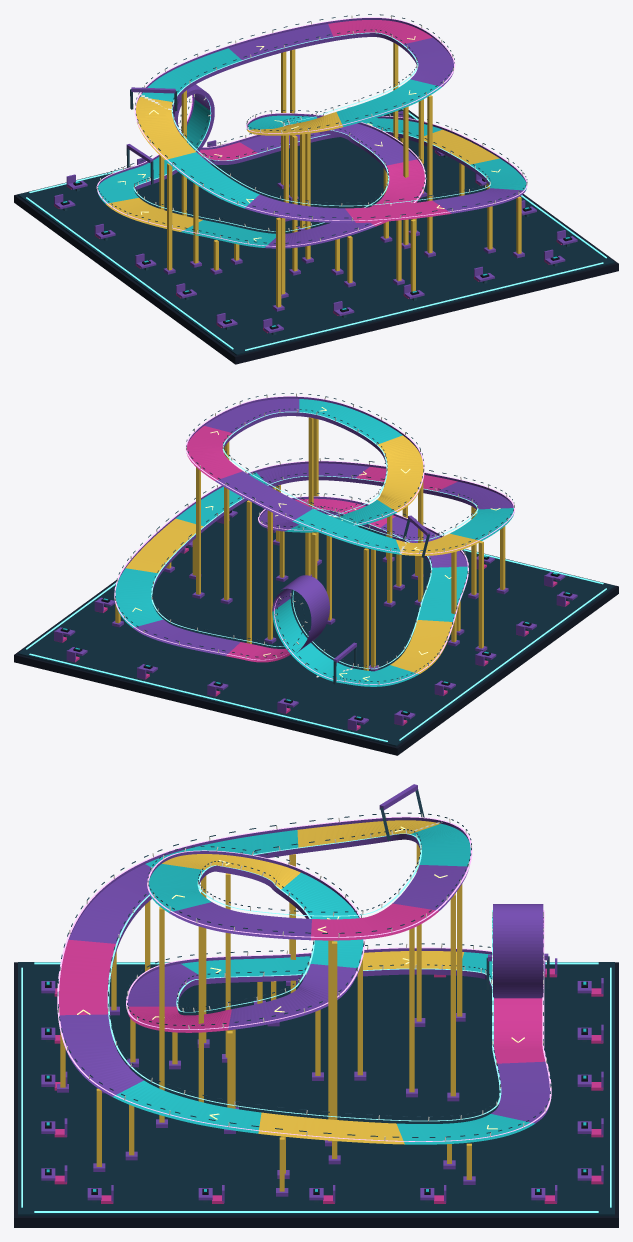
The model's file is circuit-aaa.glb.
3 views of the same model, one above another, from view 1: azimuth 30°, elevation 25°; view 2: azimuth 150°, elevation 25°; view 3: azimuth 270°, elevation 25° (orthographic). The views are drawn at different scales.
Visible parts, largest first — view 1: track-part-0, track-part-4, track-part-5, track-part-2, track-part-7, track-part-3, track-part-8, track-part-9, track-part-1, track-part-6; view 2: track-part-0, track-part-4, track-part-5, track-part-2, track-part-7, track-part-3, track-part-8, track-part-9, track-part-1, track-part-6; view 3: track-part-0, track-part-4, track-part-5, track-part-2, track-part-3, track-part-7, track-part-8, track-part-9, track-part-1, track-part-6.
Boxes of the visible parts, x1,y1,x2,y2 form: track-part-0: (18, 109, 614, 355); track-part-4: (54, 18, 577, 333); track-part-5: (106, 42, 521, 307); track-part-2: (63, 48, 569, 327); track-part-7: (14, 110, 618, 364); track-part-3: (54, 20, 561, 333); track-part-8: (26, 32, 606, 350); track-part-9: (96, 17, 527, 246); track-part-1: (63, 14, 569, 335); track-part-6: (97, 15, 527, 243); track-part-0: (18, 500, 614, 746); track-part-4: (54, 396, 577, 730); track-part-5: (115, 417, 505, 673); track-part-2: (63, 399, 570, 718); track-part-7: (14, 510, 618, 755); track-part-3: (54, 426, 569, 730); track-part-8: (26, 411, 606, 741); track-part-9: (114, 396, 515, 684); track-part-1: (63, 393, 569, 725); track-part-6: (115, 393, 514, 684); track-part-0: (18, 962, 614, 1216); track-part-4: (41, 784, 603, 1203); track-part-5: (60, 820, 471, 1191); track-part-2: (46, 823, 586, 1191); track-part-3: (54, 903, 603, 1203); track-part-7: (14, 962, 618, 1227); track-part-8: (21, 833, 611, 1212); track-part-9: (57, 816, 551, 1141); track-part-1: (46, 789, 586, 1202); track-part-6: (58, 813, 551, 1141).
Size of the model in its own units: 30 by 13.37 by 30.
